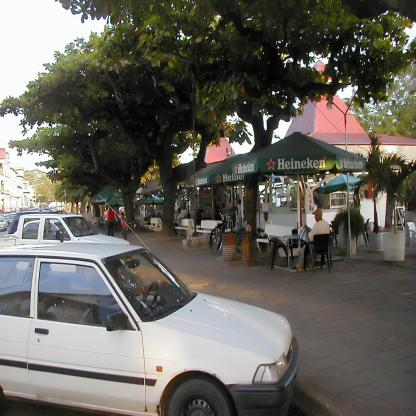Car: (1, 195, 299, 416)
